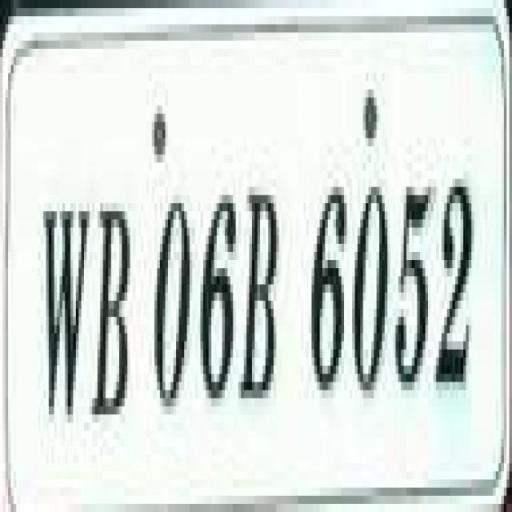number plate: (18, 32, 511, 494)
